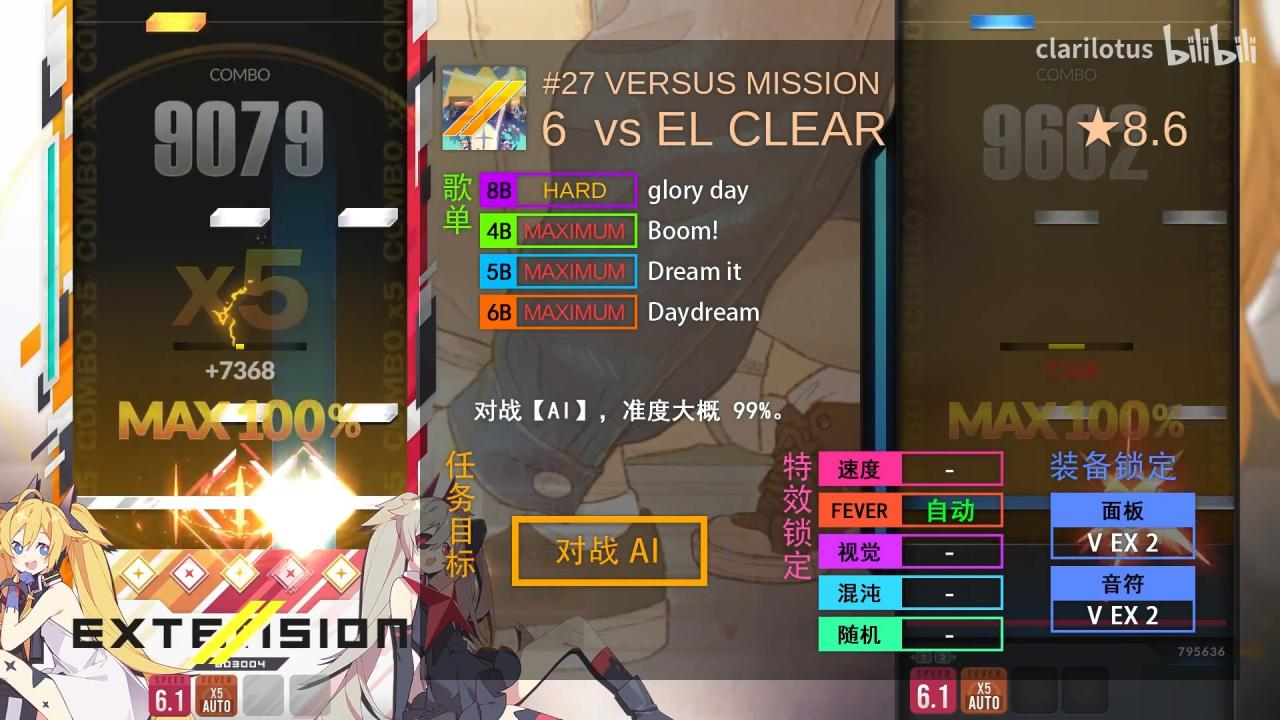note: (210, 403, 273, 423), (210, 207, 271, 227), (337, 208, 399, 227), (146, 12, 207, 31), (338, 404, 399, 423)
